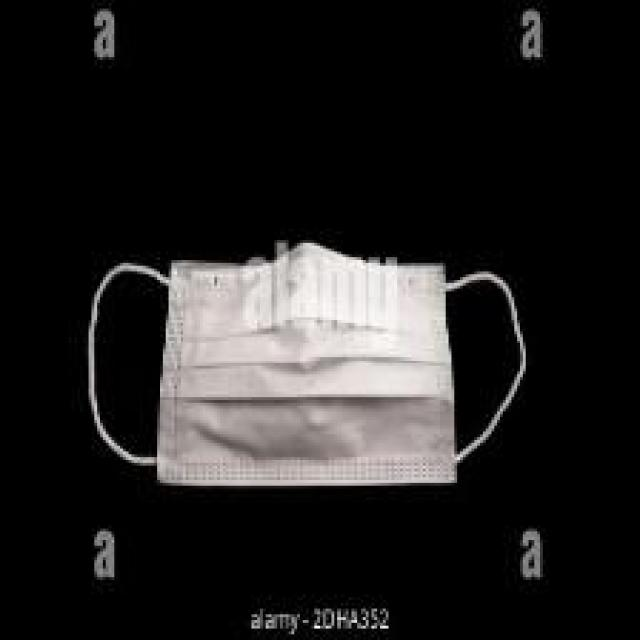Mask: (77, 228, 561, 504)
